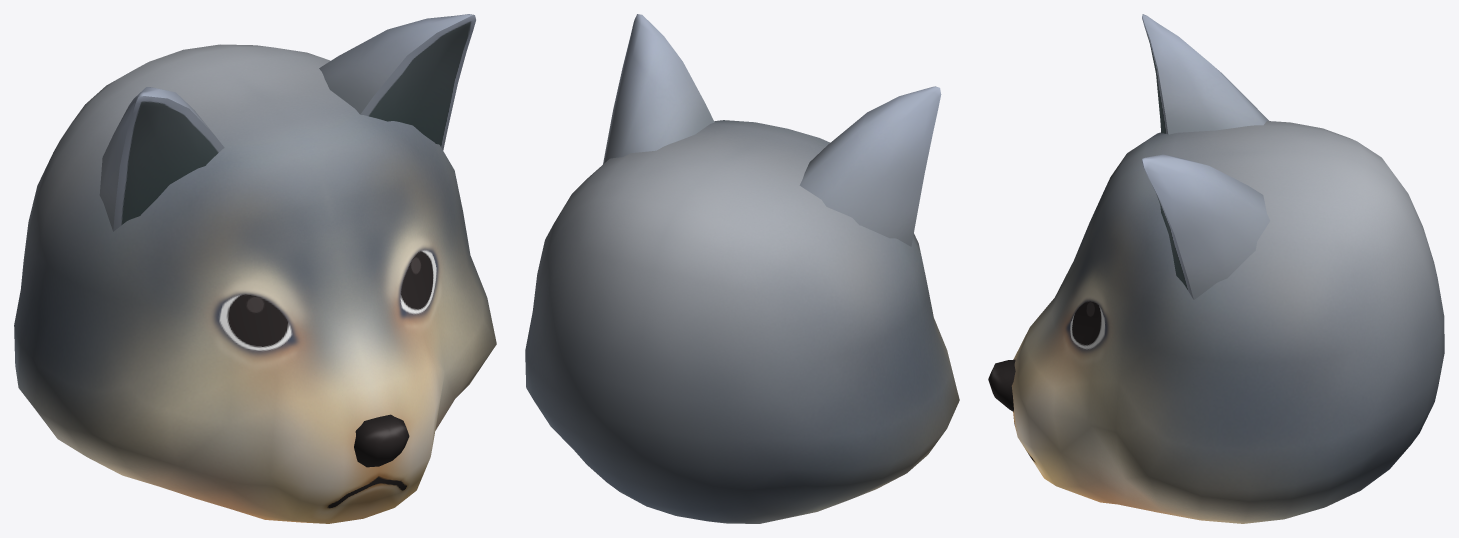
File: ENV2010020.fbx
The picture shows the model from 3 angles, left to right: view 1: azimuth 30°, elevation 25°; view 2: azimuth 150°, elevation 25°; view 3: azimuth 270°, elevation 25°; orthographic projection. The views are drawn at different scales.
Parts seen in each view (by area): view 1: smENV2010020; view 2: smENV2010020; view 3: smENV2010020.
Boxes of the visible parts, left/top/right/bottom form: smENV2010020: left=14, top=14, right=496, bottom=523; smENV2010020: left=525, top=14, right=959, bottom=523; smENV2010020: left=988, top=14, right=1444, bottom=523.
Bounding box in the file's own units: 14.46 × 14.88 × 15.06.
1 material, 1 textured.
